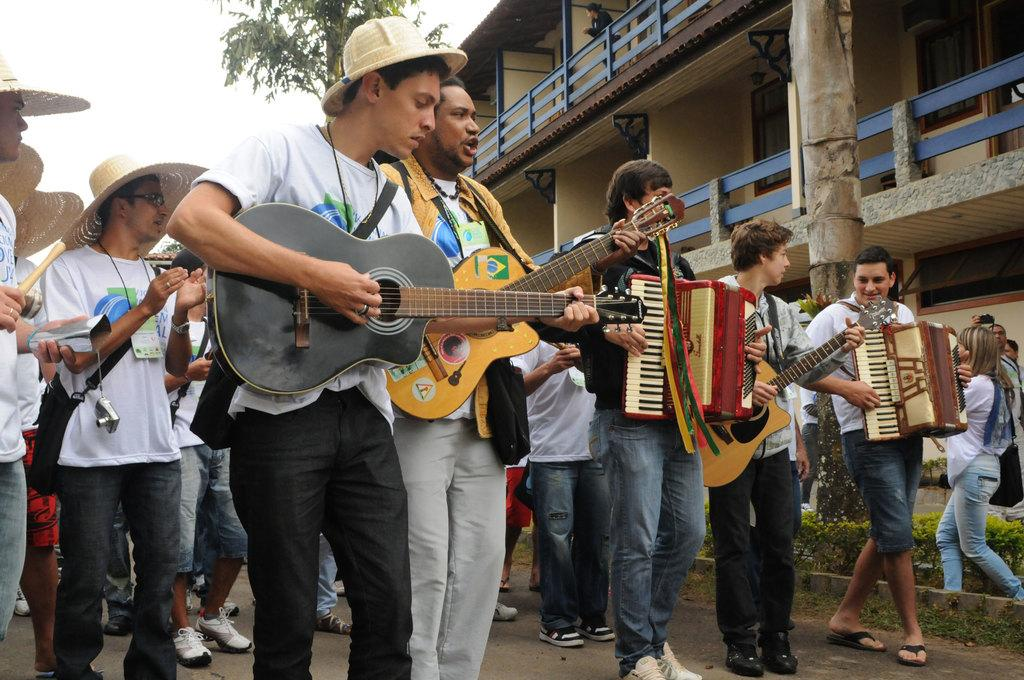Hat: (320, 14, 465, 119), (59, 152, 208, 253), (0, 52, 92, 118), (12, 192, 82, 257), (0, 142, 46, 219)
